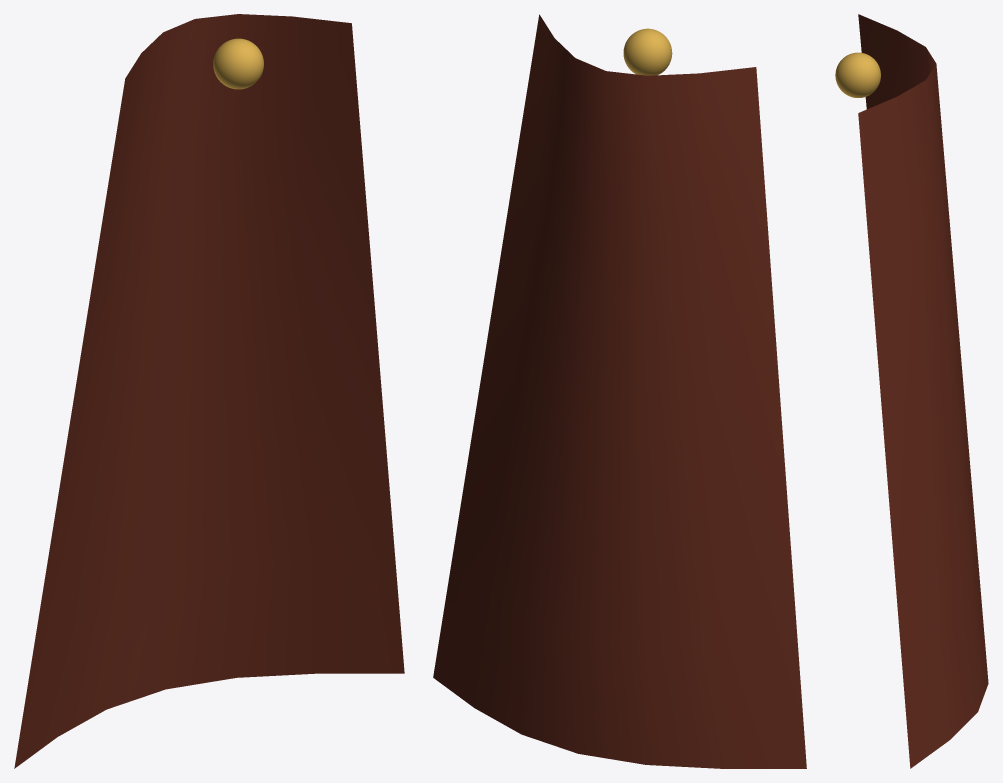
The model's file is cape_voyage.glb.
3 renders of one model, left to right at view 1: azimuth 30°, elevation 25°; view 2: azimuth 150°, elevation 25°; view 3: azimuth 270°, elevation 25°, orthographic. The views are drawn at different scales.
Visible parts, largest first — view 1: Tissu, Fermoir; view 2: Tissu, Fermoir; view 3: Tissu, Fermoir.
Boxes of the visible parts, x1,y1,x2,y2 form: Tissu: [14, 14, 404, 768]; Fermoir: [213, 38, 263, 89]; Tissu: [433, 14, 806, 768]; Fermoir: [623, 28, 672, 75]; Tissu: [858, 14, 988, 768]; Fermoir: [835, 52, 880, 97].
Bounding box in the file's own units: 0.62 × 1.06 × 0.235.
